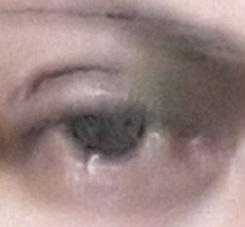open: (0, 44, 245, 227)
